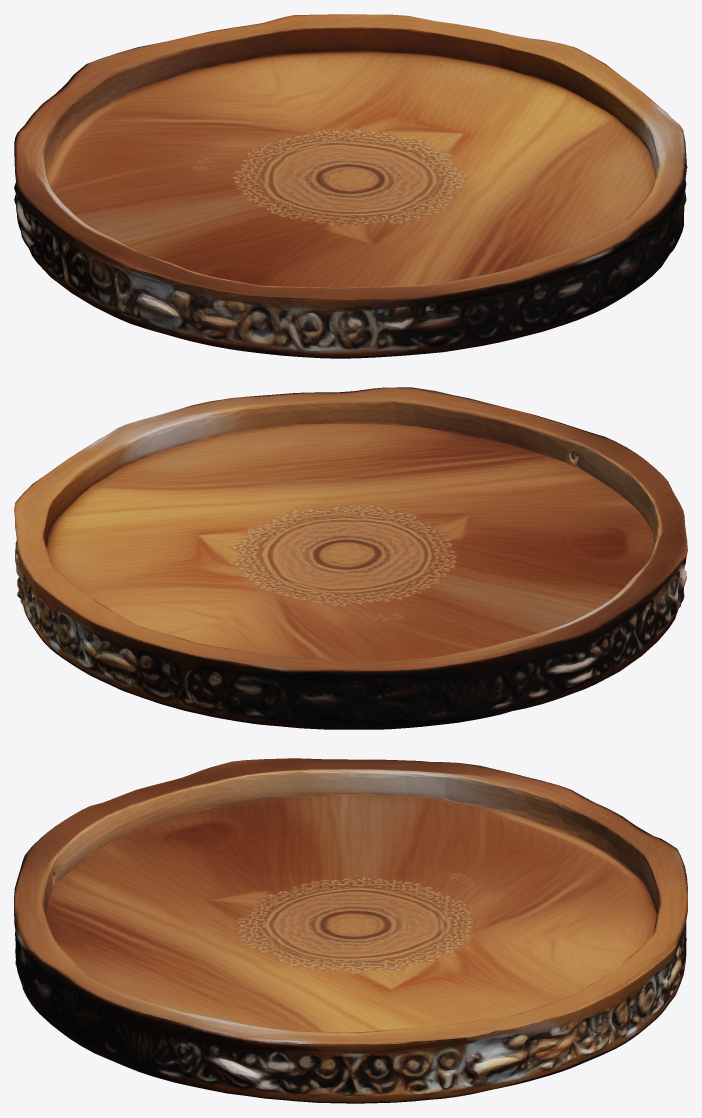
Rendered from wooden-serving-tray-vintage.jpeg.glb.
3 views of the same model, one above another, from view 1: azimuth 30°, elevation 25°; view 2: azimuth 150°, elevation 25°; view 3: azimuth 270°, elevation 25° (orthographic).
Visible parts, largest first — view 1: world; view 2: world; view 3: world.
Boxes of the visible parts, x1,y1,x2,y2 form: world: (14,14,687,358); world: (14,387,687,729); world: (14,758,687,1103).
Size of the model in its own units: 1 by 0.1056 by 1.
1 material, 1 textured.
